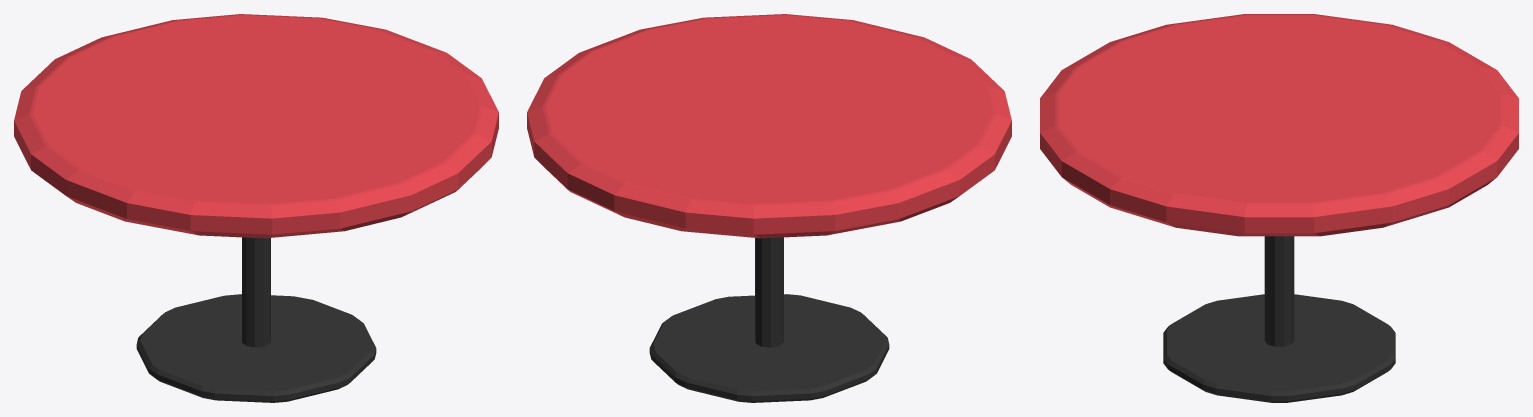
Rendered from Table.fbx.
3 views of the same model, side by side, from view 1: azimuth 30°, elevation 25°; view 2: azimuth 150°, elevation 25°; view 3: azimuth 270°, elevation 25° (orthographic).
Visible parts, largest first — view 1: Cube.002; view 2: Cube.002; view 3: Cube.002.
Boxes of the visible parts, x1,y1,x2,y2 form: Cube.002: (14, 14, 498, 402); Cube.002: (527, 14, 1011, 402); Cube.002: (1040, 14, 1518, 402).
Size of the model in its own units: 74.6 by 42.11 by 74.91.
